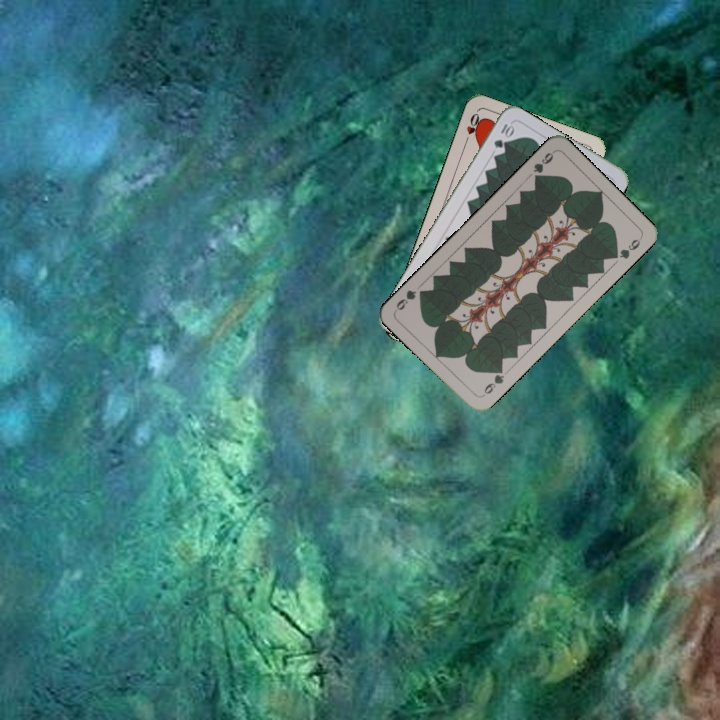G10: (490, 120, 516, 151)
G9: (529, 147, 557, 184), (478, 363, 506, 399)
HO: (460, 109, 484, 148)
